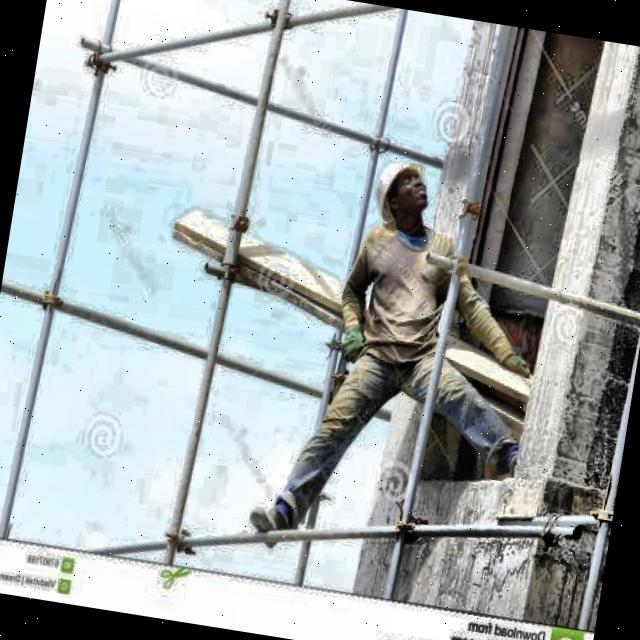helmet: (376, 160, 434, 230)
